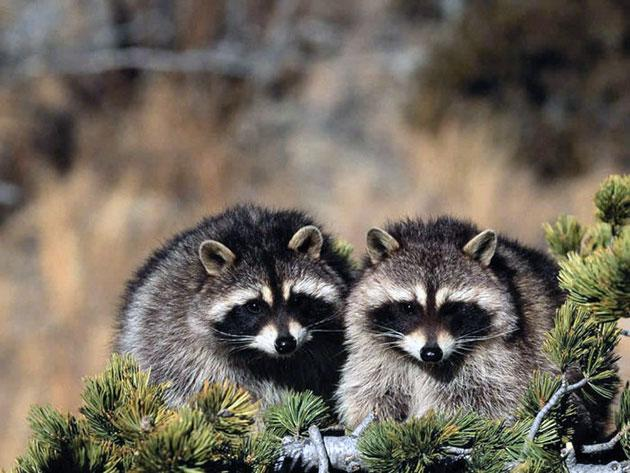raccoon: (344, 204, 575, 441), (124, 202, 343, 439)
